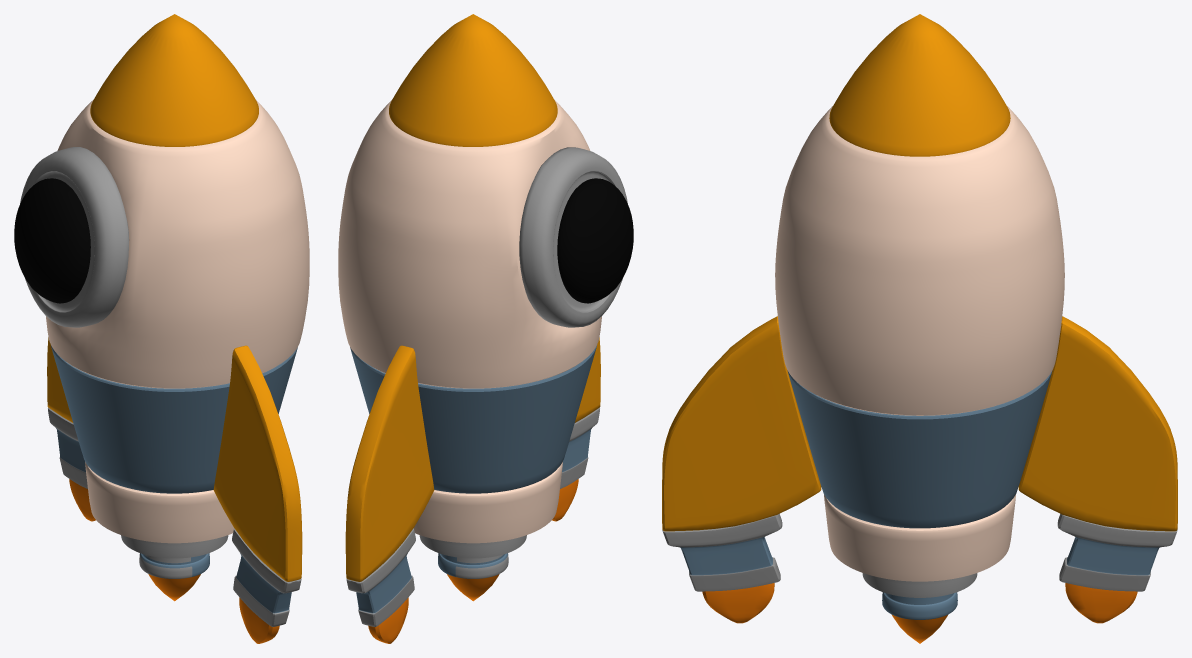
The model's file is rakieta.fbx.
3 views of the same model, side by side, from view 1: azimuth 30°, elevation 25°; view 2: azimuth 150°, elevation 25°; view 3: azimuth 270°, elevation 25° (orthographic). The views are drawn at different scales.
Visible parts, largest first — view 1: Cylinder, Cylinder.001, Cylinder.002, Cylinder.003, Cylinder.005, Cylinder.006, Cylinder.004; view 2: Cylinder, Cylinder.001, Cylinder.002, Cylinder.003, Cylinder.005, Cylinder.006, Cylinder.004; view 3: Cylinder, Cylinder.001, Cylinder.005, Cylinder.006, Cylinder.004.
Boxes of the visible parts, <box> form: Cylinder: <box>46,14,309,578</box>; Cylinder.001: <box>47,337,302,581</box>; Cylinder.002: <box>20,147,129,327</box>; Cylinder.003: <box>14,178,90,303</box>; Cylinder.005: <box>48,407,301,626</box>; Cylinder.006: <box>69,479,279,643</box>; Cylinder.004: <box>148,574,200,601</box>; Cylinder: <box>338,14,601,578</box>; Cylinder.001: <box>345,337,600,581</box>; Cylinder.002: <box>519,147,627,327</box>; Cylinder.003: <box>557,178,633,303</box>; Cylinder.005: <box>346,407,599,626</box>; Cylinder.006: <box>368,479,578,643</box>; Cylinder.004: <box>447,574,499,601</box>; Cylinder: <box>775,14,1064,619</box>; Cylinder.001: <box>662,316,1177,531</box>; Cylinder.005: <box>662,514,1177,591</box>; Cylinder.006: <box>702,583,1137,623</box>; Cylinder.004: <box>892,615,947,643</box>.
Size of the model in its own units: 208 by 443 by 328.
